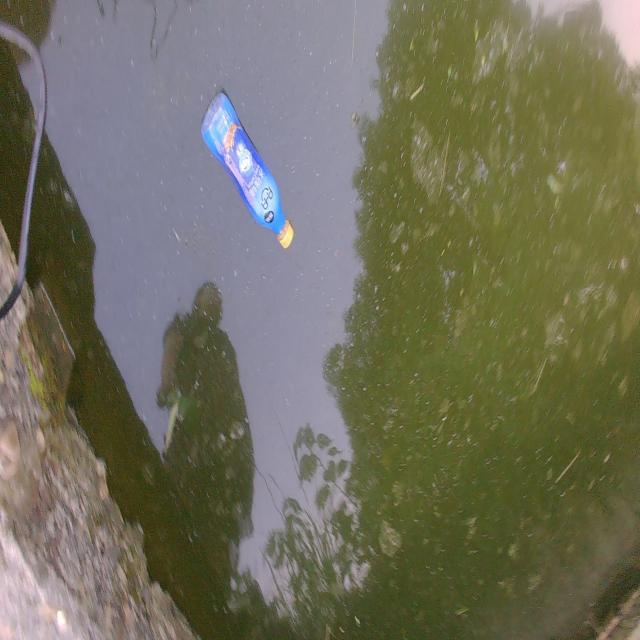bottle: (181, 77, 324, 253)
